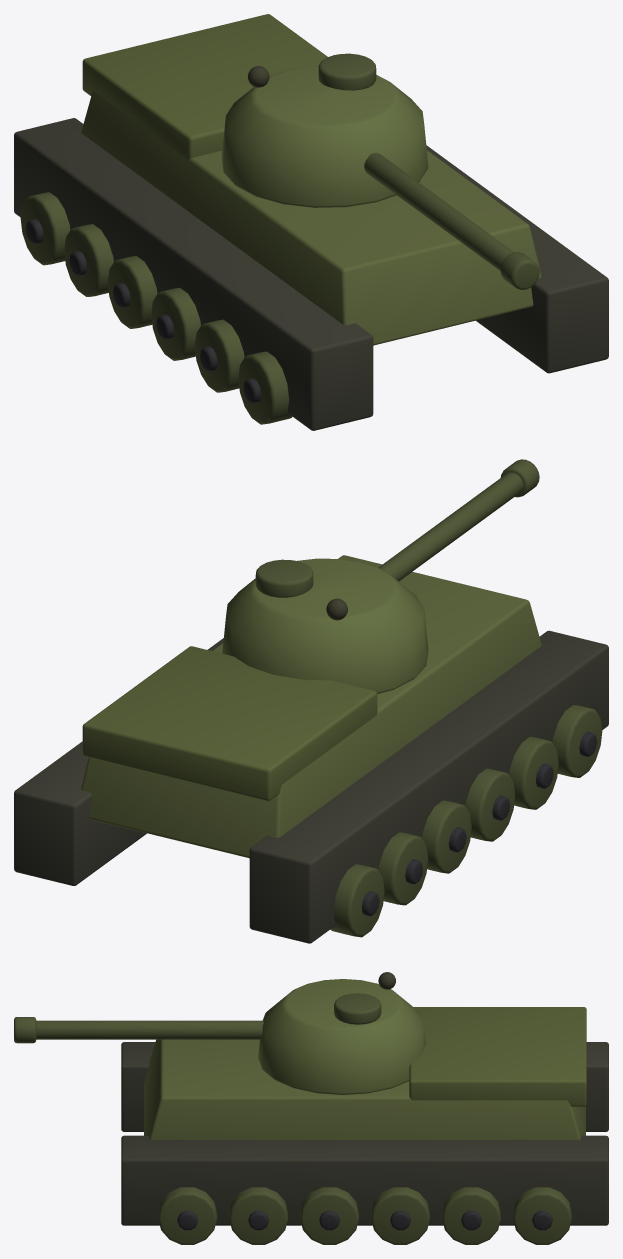
File: tanque_ww2.glb
3 renders of one model, top to bottom at view 1: azimuth 30°, elevation 25°; view 2: azimuth 150°, elevation 25°; view 3: azimuth 270°, elevation 25°, orthographic. The views are drawn at different scales.
Parts seen in each view (by area): view 1: tanque_ww2; view 2: tanque_ww2; view 3: tanque_ww2.
Part boxes in pixels (bbox=[...]): tanque_ww2: bbox=[14, 14, 608, 430]; tanque_ww2: bbox=[14, 459, 608, 943]; tanque_ww2: bbox=[14, 972, 608, 1244].
Bounding box in the file's own units: 4.38 × 2.86 × 8.05.
